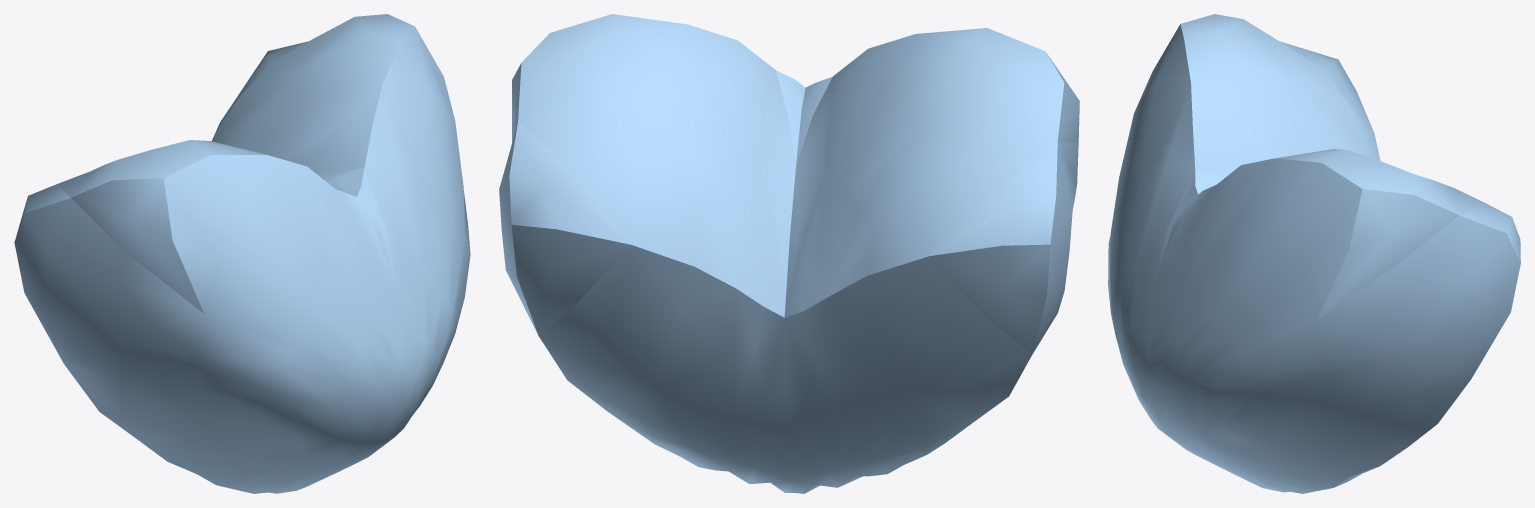
3 renders of one model, left to right at view 1: azimuth 30°, elevation 25°; view 2: azimuth 150°, elevation 25°; view 3: azimuth 270°, elevation 25°, orthographic. The views are drawn at different scales.
Parts seen in each view (by area): view 1: 426; view 2: 426; view 3: 426.
Boxes of the visible parts, box(x1,y1,x2,y2) form: 426: box(14, 14, 470, 493); 426: box(499, 14, 1079, 493); 426: box(1108, 14, 1520, 493).
Size of the model in its own units: 11.46 by 9.41 by 9.98.
